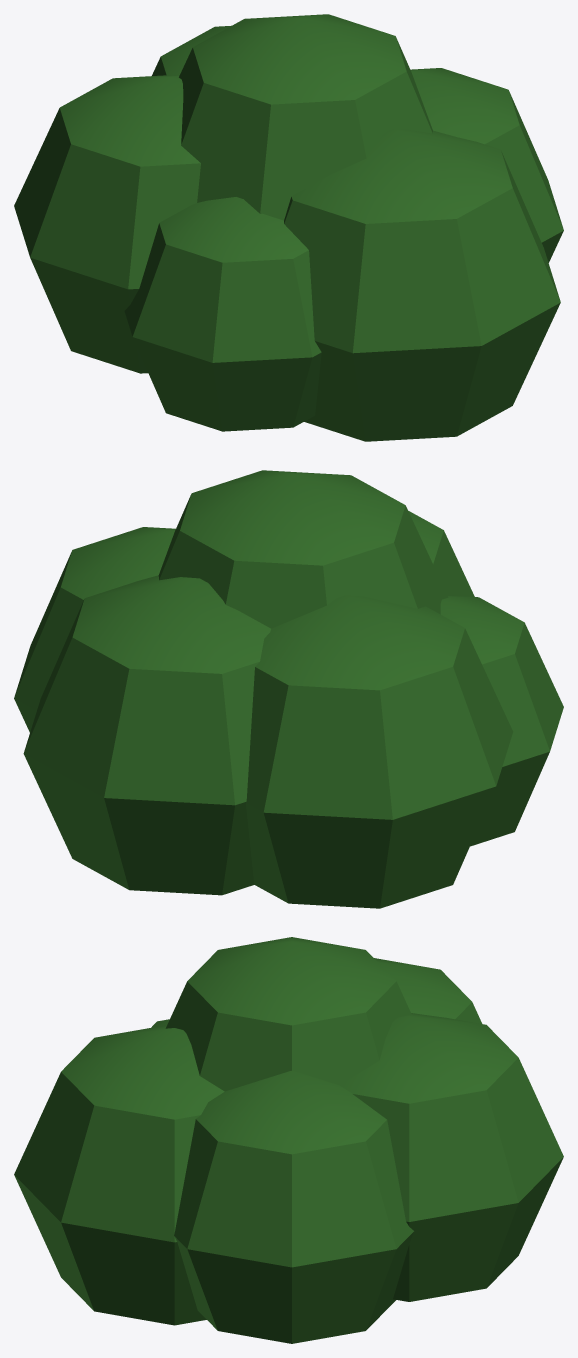
The model's file is landscape.shrub.size_4.glb.
3 views of the same model, one above another, from view 1: azimuth 30°, elevation 25°; view 2: azimuth 150°, elevation 25°; view 3: azimuth 270°, elevation 25° (orthographic). The views are drawn at different scales.
Visible parts, largest first — view 1: main__foliage; view 2: main__foliage; view 3: main__foliage.
Part boxes in pixels (<box>): main__foliage: <box>14,14,563,441</box>; main__foliage: <box>14,470,563,908</box>; main__foliage: <box>14,937,563,1343</box>.
Bounding box in the file's own units: 2.33 × 1.78 × 2.45.
